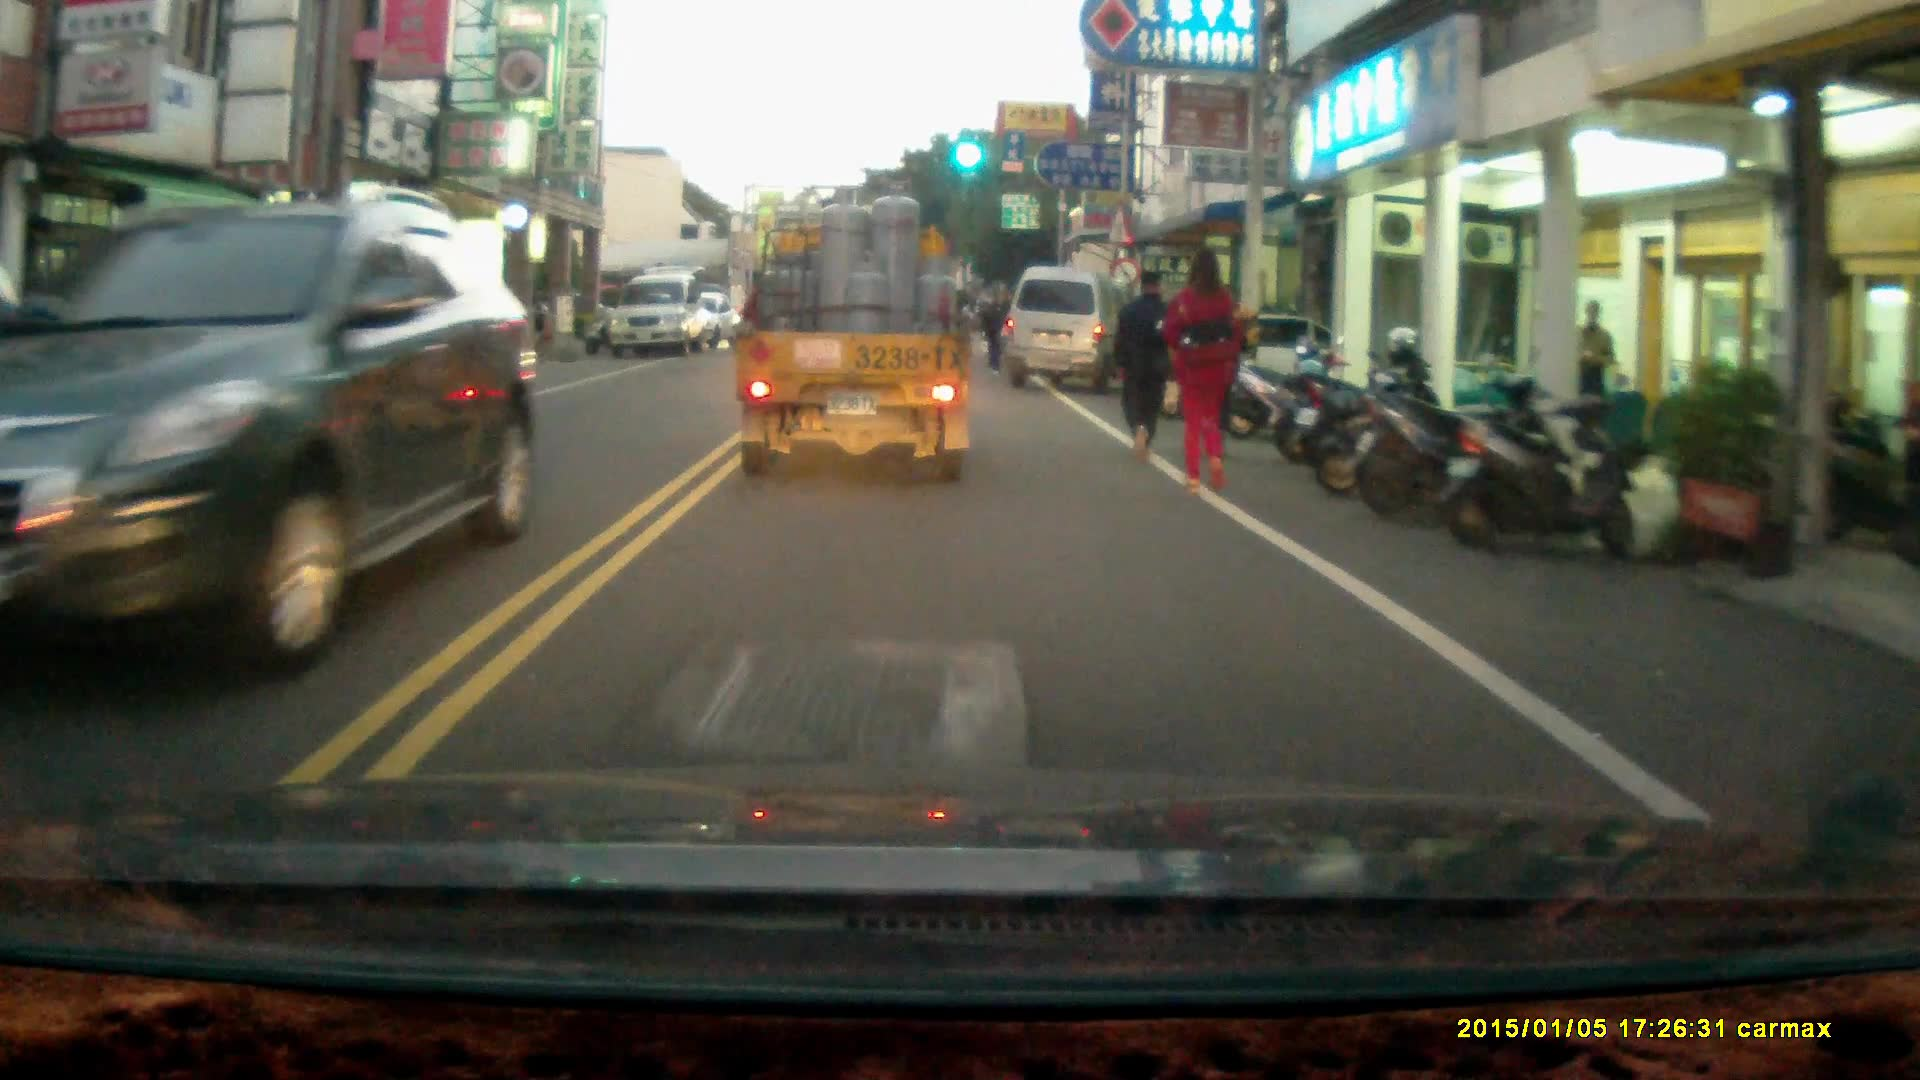pedestrian: (1165, 245, 1246, 501), (1106, 268, 1181, 466), (1573, 296, 1618, 444), (980, 288, 1013, 371)
vehicle: (1, 183, 558, 669), (732, 184, 983, 492), (203, 290, 470, 404), (1009, 267, 1139, 397), (607, 276, 716, 360)
